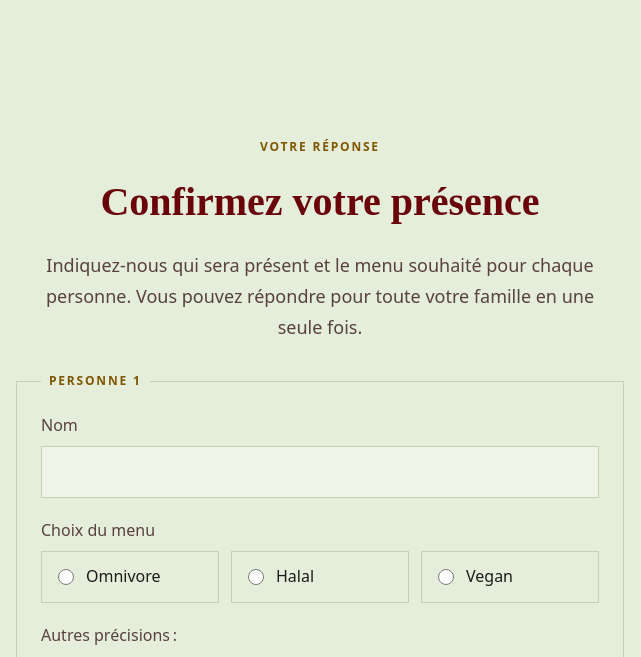
RsvpPage › asks the guest to retry when the api refuses the answer
In the field labelled "Nom": x=320, y=472 [41,446,599,498], type "Camille"
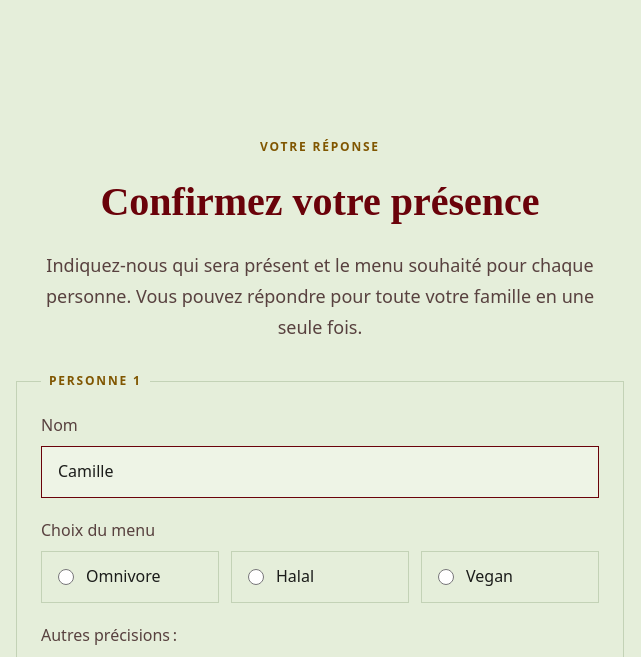
Click the radio button labelled "Vegan": x=446, y=577 [438,569,454,585]
(page scrolled)
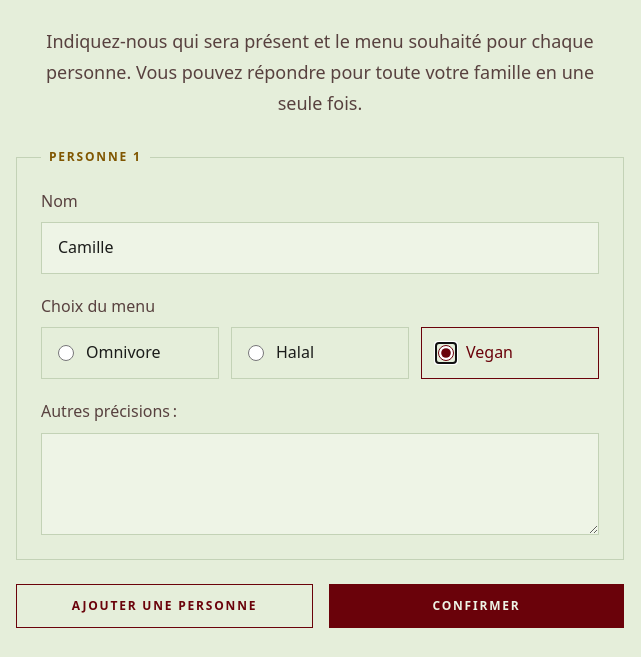
Click the button "Confirmer": x=476, y=606 [329,584,624,628]
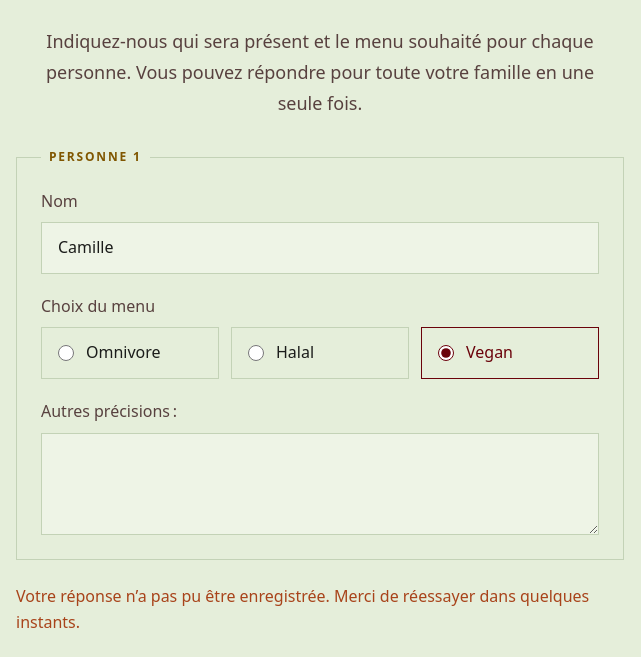
Result: the message shows "Merci de réessayer dans quelques instants." at [16,585,589,633]
